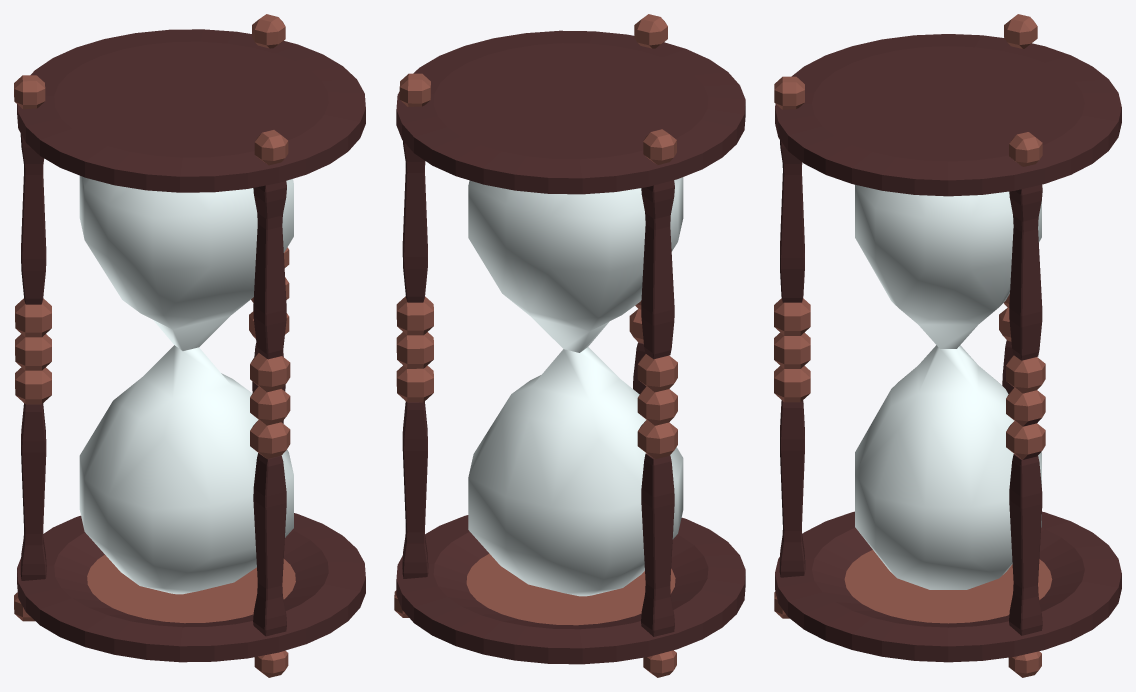
File: Hourglass Original Joined.fbx
3 views of the same model, side by side, from view 1: azimuth 30°, elevation 25°; view 2: azimuth 150°, elevation 25°; view 3: azimuth 270°, elevation 25° (orthographic).
Parts seen in each view (by area): view 1: Hourglass Original Joined; view 2: Hourglass Original Joined; view 3: Hourglass Original Joined.
Boxes of the visible parts, box(x1,y1,x2,y2) form: Hourglass Original Joined: box(14, 14, 365, 677); Hourglass Original Joined: box(394, 14, 745, 677); Hourglass Original Joined: box(774, 14, 1121, 677).
Size of the model in its own units: 200 by 200 by 342.
